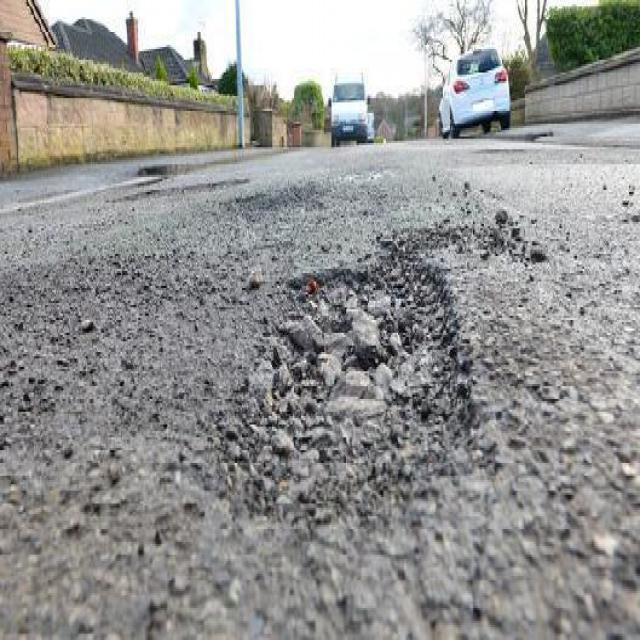buraco: (201, 222, 507, 532), (217, 236, 493, 518)
